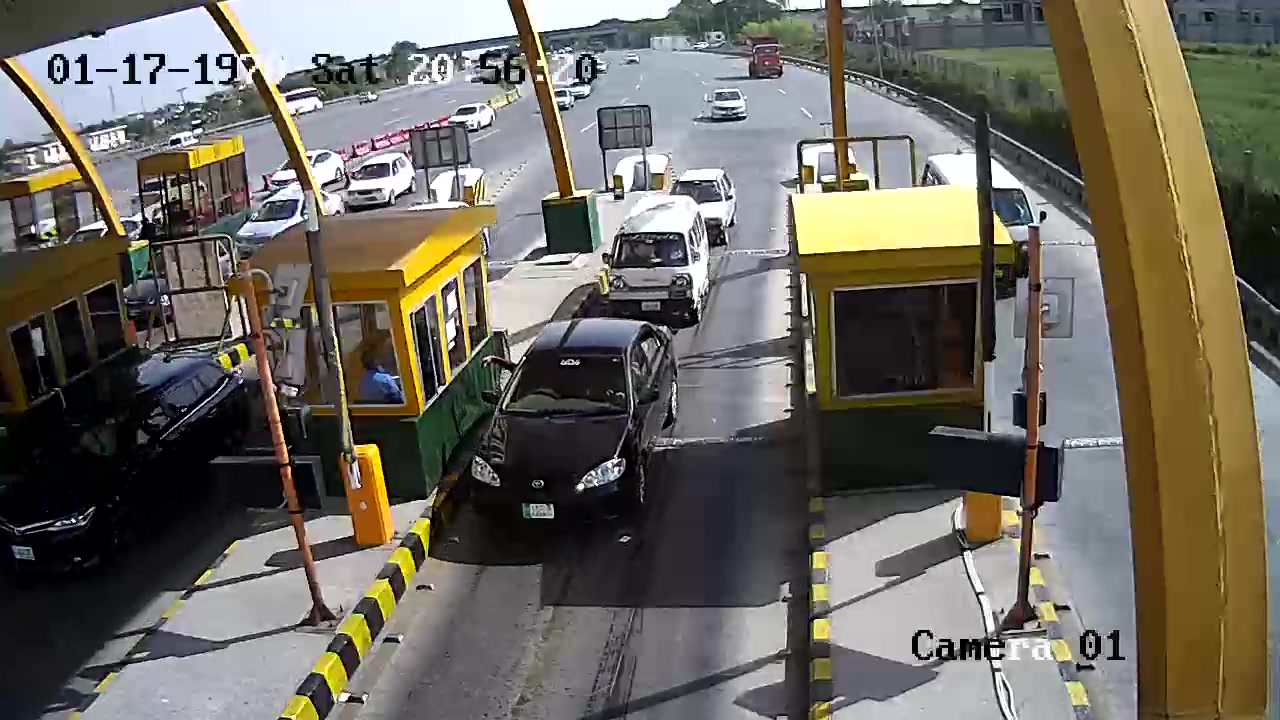F1: (461, 302, 689, 559)
